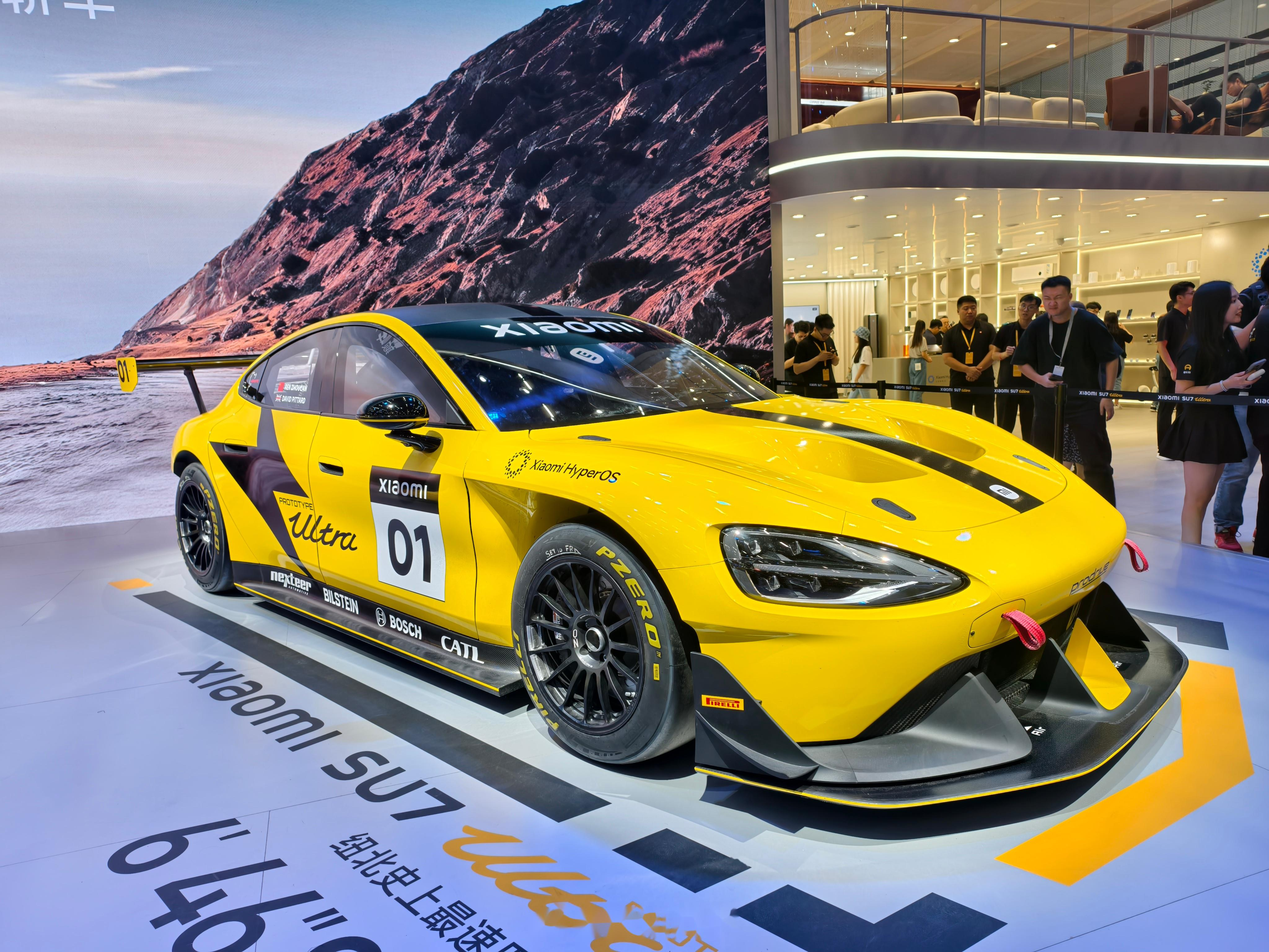su7: (107, 282, 1201, 831)
